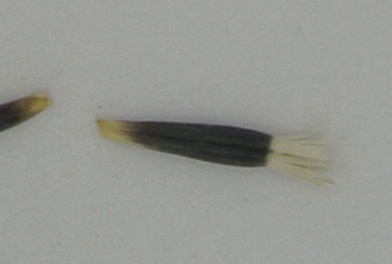เมล็ดดีติดกัน: (95, 115, 333, 191)
